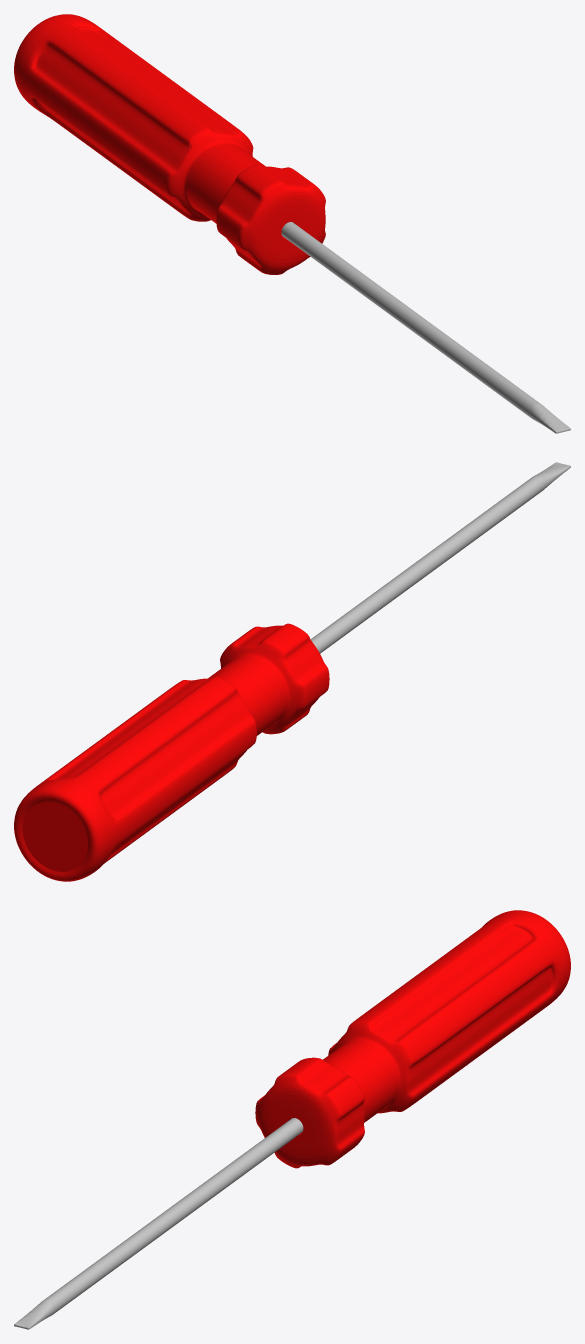
File: Screwdriver.fbx
The picture shows the model from 3 angles, top to bottom: view 1: azimuth 30°, elevation 25°; view 2: azimuth 150°, elevation 25°; view 3: azimuth 330°, elevation 25°; orthographic projection.
Visible parts, largest first — view 1: Screwdriver; view 2: Screwdriver; view 3: Screwdriver.
Boxes of the visible parts, x1,y1,x2,y2 form: Screwdriver: [14, 14, 570, 433]; Screwdriver: [14, 462, 570, 881]; Screwdriver: [14, 910, 570, 1329].
Size of the model in its own units: 270 by 269 by 2650.
